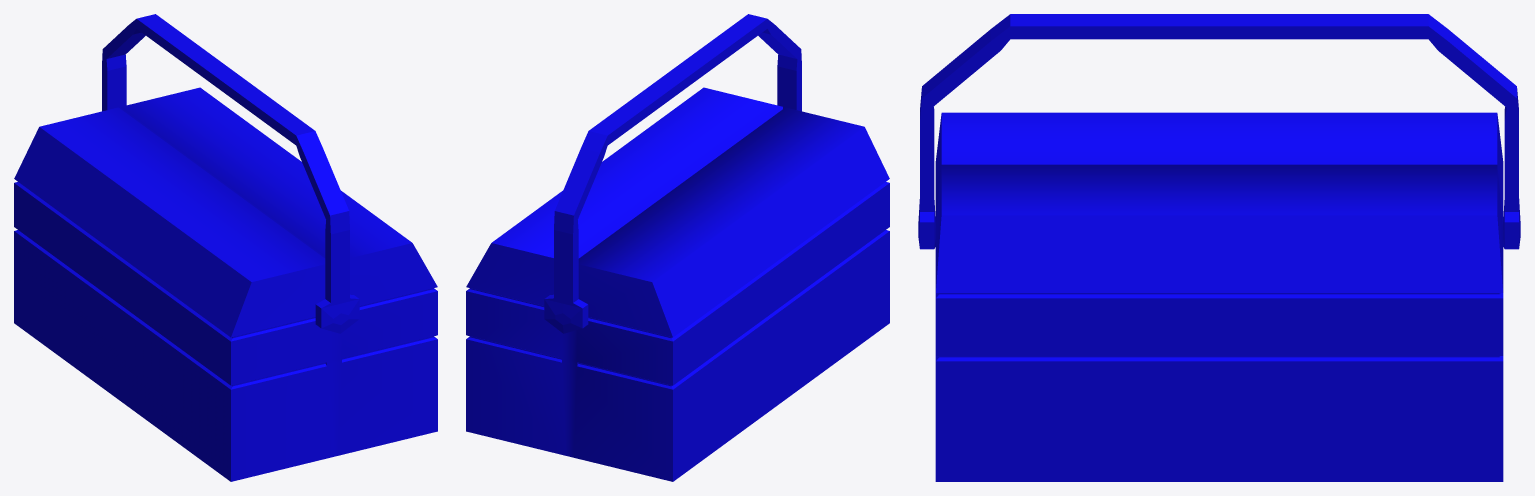
File: ToolBox.fbx
3 renders of one model, left to right at view 1: azimuth 30°, elevation 25°; view 2: azimuth 150°, elevation 25°; view 3: azimuth 270°, elevation 25°, orthographic. The views are drawn at different scales.
Parts seen in each view (by area): view 1: Box001; view 2: Box001; view 3: Box001.
Boxes of the visible parts, x1,y1,x2,y2 form: Box001: (14,14,437,481); Box001: (466,14,889,481); Box001: (918,14,1520,481).
Size of the model in its own units: 27 by 37.72 by 52.
